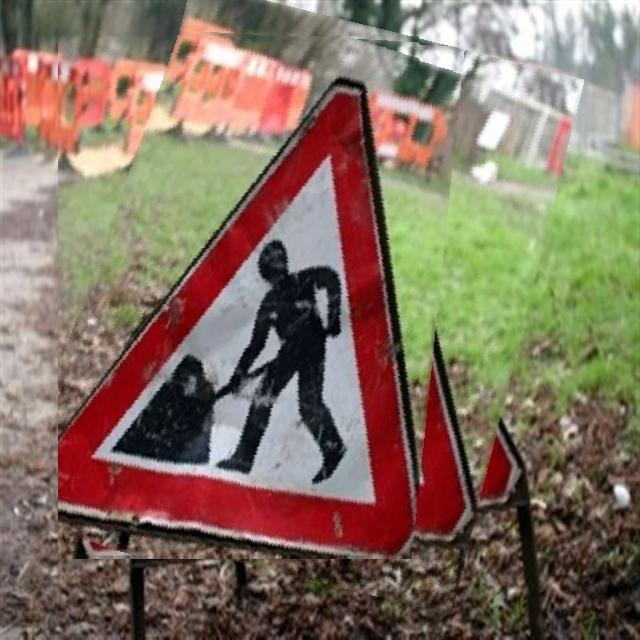roadwork: (58, 37, 419, 557)
